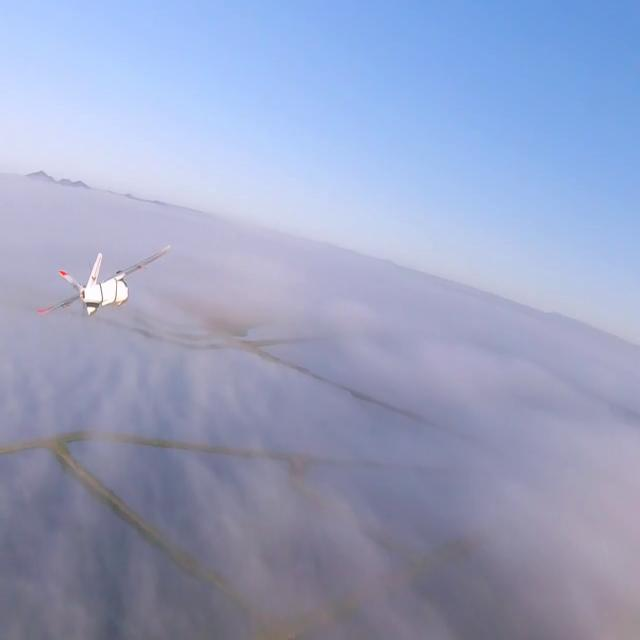iha: (0, 278, 106, 284)
